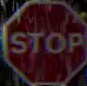Stop: (4, 1, 86, 85)
